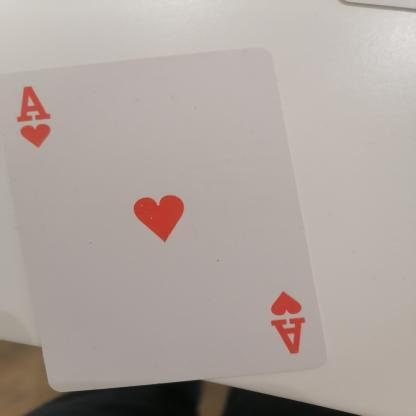AH: (249, 278, 319, 356), (16, 83, 68, 158)
